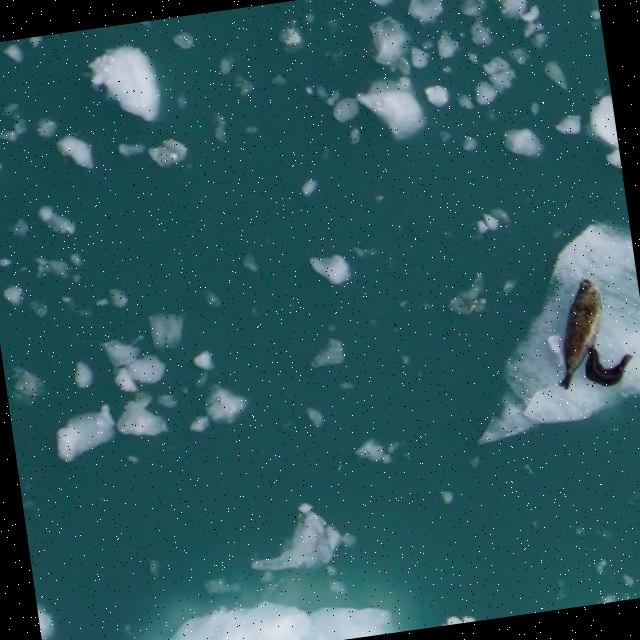seal: (554, 276, 608, 395), (583, 347, 631, 390)
